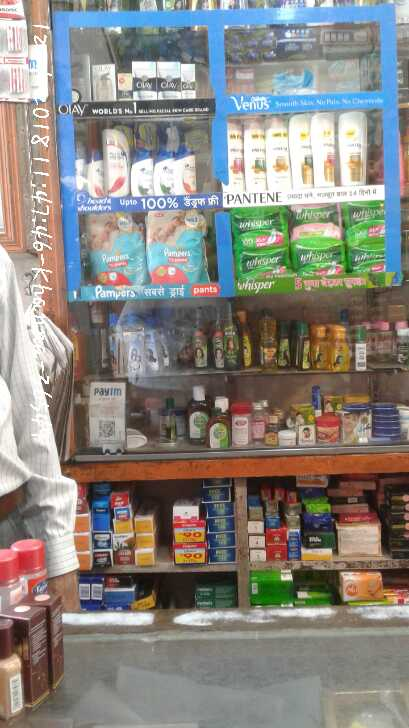venus: (273, 67, 315, 95)
